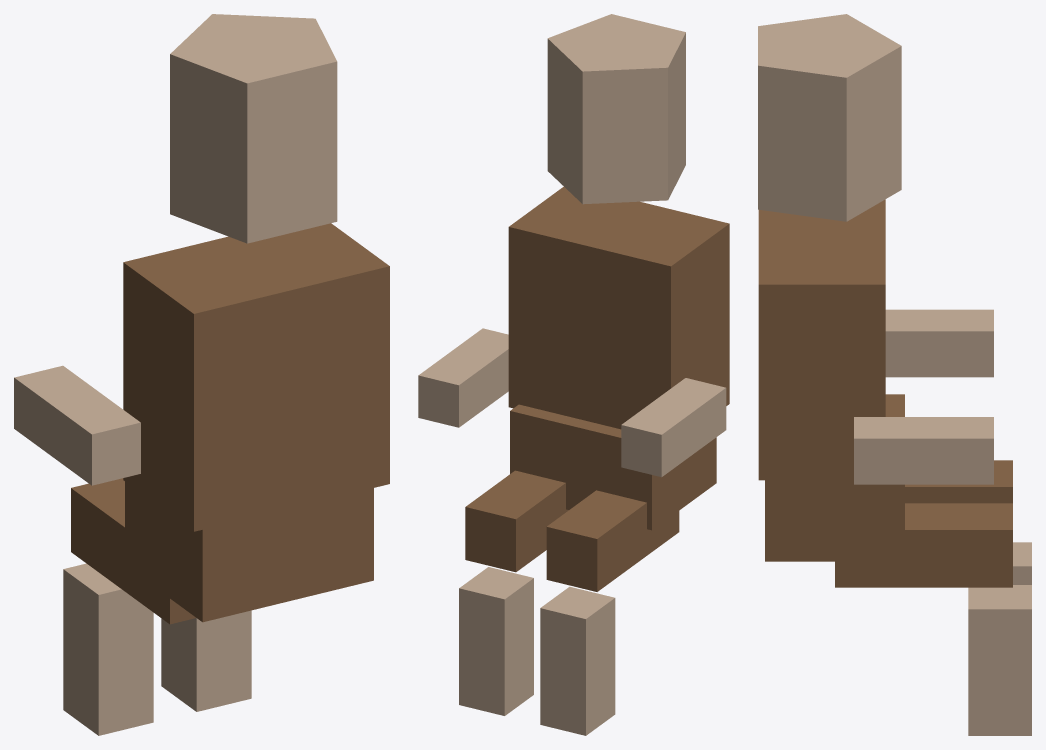
File: seated.glb
3 views of the same model, side by side, from view 1: azimuth 30°, elevation 25°; view 2: azimuth 150°, elevation 25°; view 3: azimuth 270°, elevation 25° (orthographic). The views are drawn at different scales.
Parts seen in each view (by area): view 1: fabric, skin; view 2: fabric, skin; view 3: fabric, skin.
Boxes of the visible parts, x1,y1,x2,y2 form: fabric: (71,223,389,624); skin: (14,14,337,735); fabric: (465,186,729,591); skin: (418,14,726,735); fabric: (758,199,1012,587); skin: (758,14,1031,735).
Bounding box in the file's own units: 0.48 × 1.14 × 0.4311.
